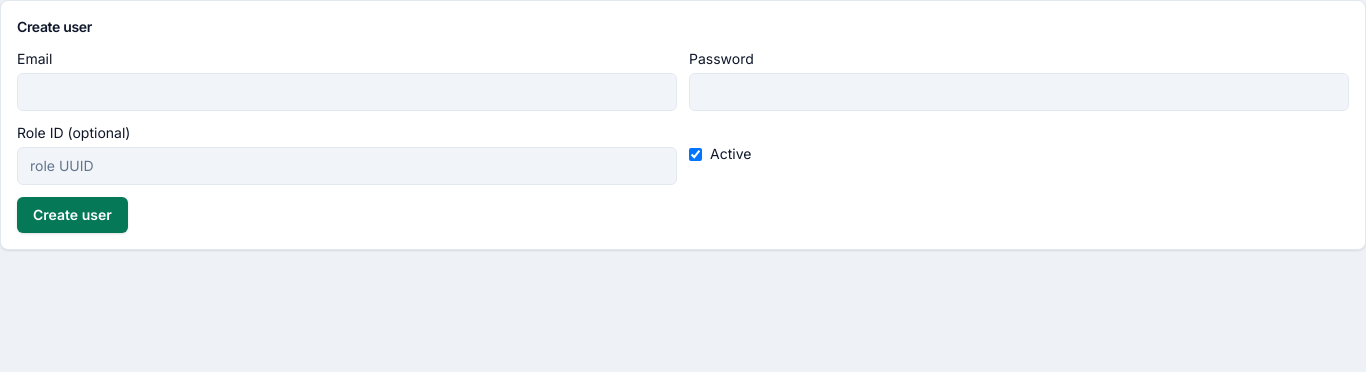
CreateUserForm › renders a created user on success
Type "new.user@example.com" into the field labelled "Email".
click(347, 92); type("new.user@example.com")  # box x1=17 y1=73 x2=677 y2=111
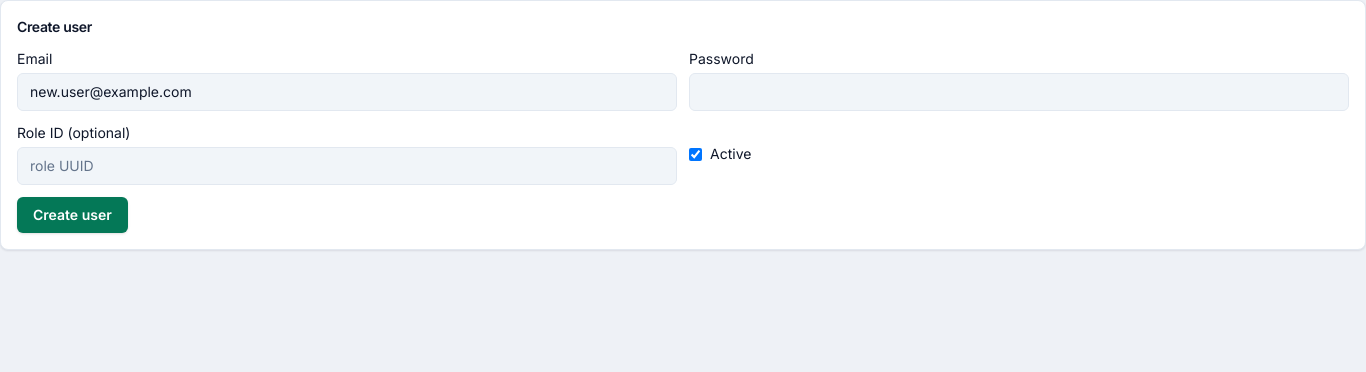
Type "supersecret" into the password field labelled "Password".
click(1019, 92); type("supersecret")  # box x1=689 y1=73 x2=1349 y2=111
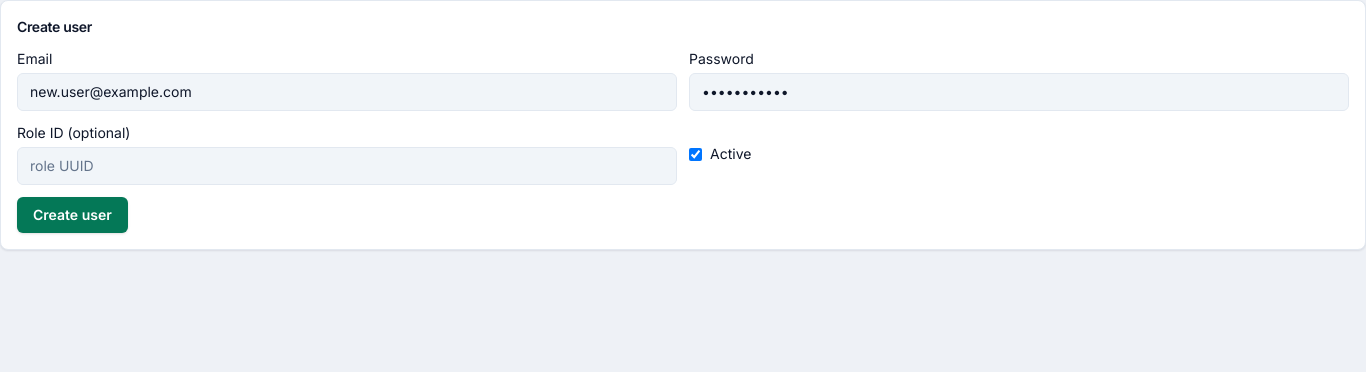
Click the button "Create user".
click(72, 215)  # box x1=17 y1=197 x2=128 y2=233
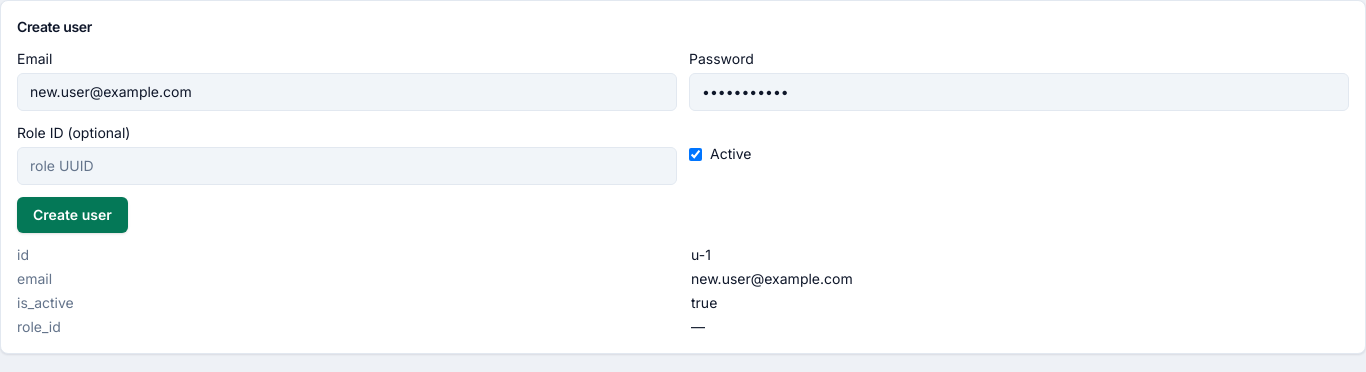
Expected: the text "new.user@example.com" is shown, x1=691 y1=270 x2=853 y2=287
Expected: the text "u-1" is shown, x1=691 y1=246 x2=711 y2=263
